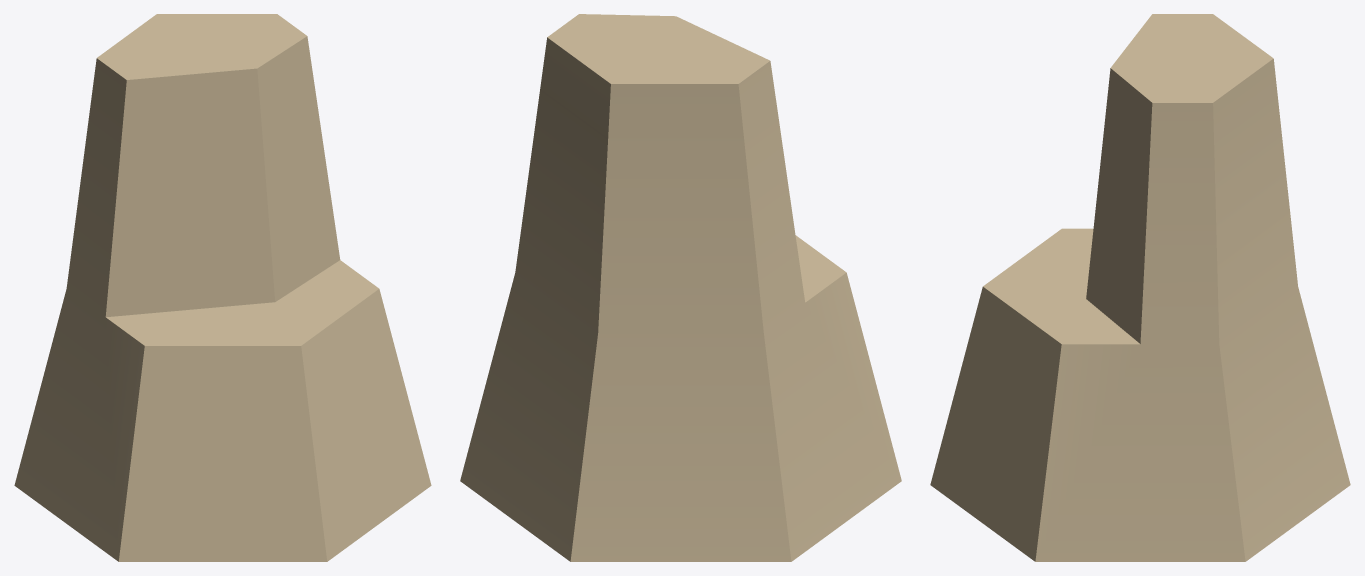
The model's file is naturePack_133.fbx.
3 views of the same model, side by side, from view 1: azimuth 30°, elevation 25°; view 2: azimuth 150°, elevation 25°; view 3: azimuth 270°, elevation 25° (orthographic). The views are drawn at different scales.
Visible parts, largest first — view 1: naturePack_133; view 2: naturePack_133; view 3: naturePack_133.
Boxes of the visible parts, box(x1,y1,x2,y2) form: naturePack_133: box(14, 14, 431, 561); naturePack_133: box(460, 14, 901, 561); naturePack_133: box(930, 14, 1350, 561).
Bounding box in the file's own units: 123 × 159 × 142.
